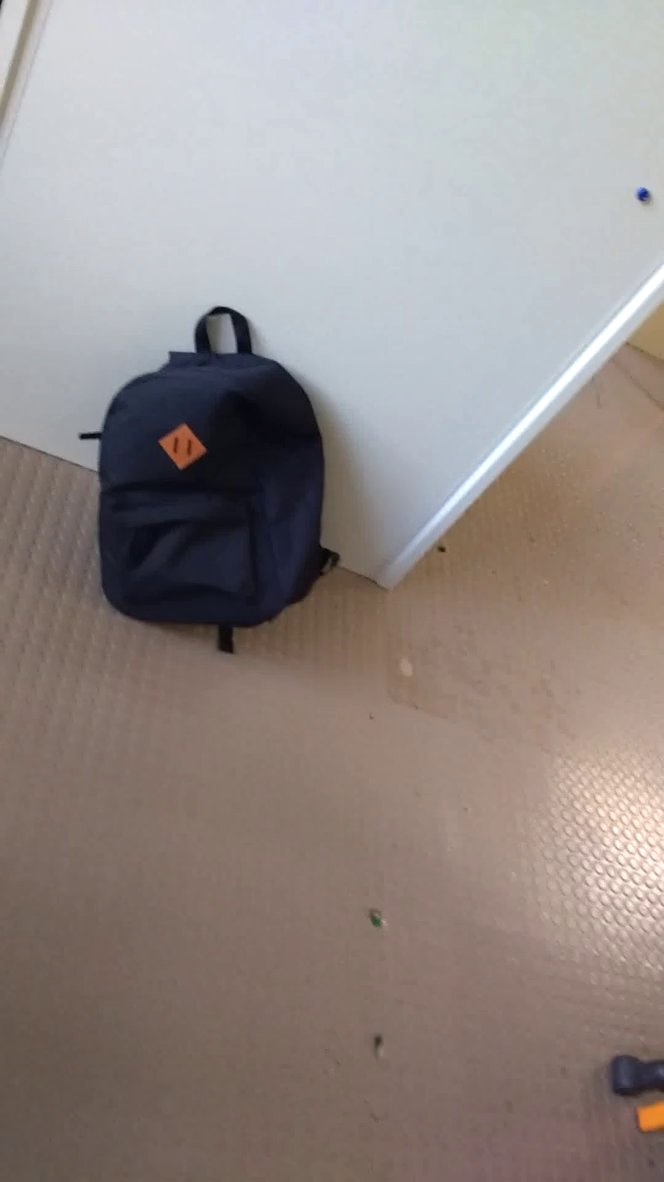bag: (55, 292, 365, 668)
